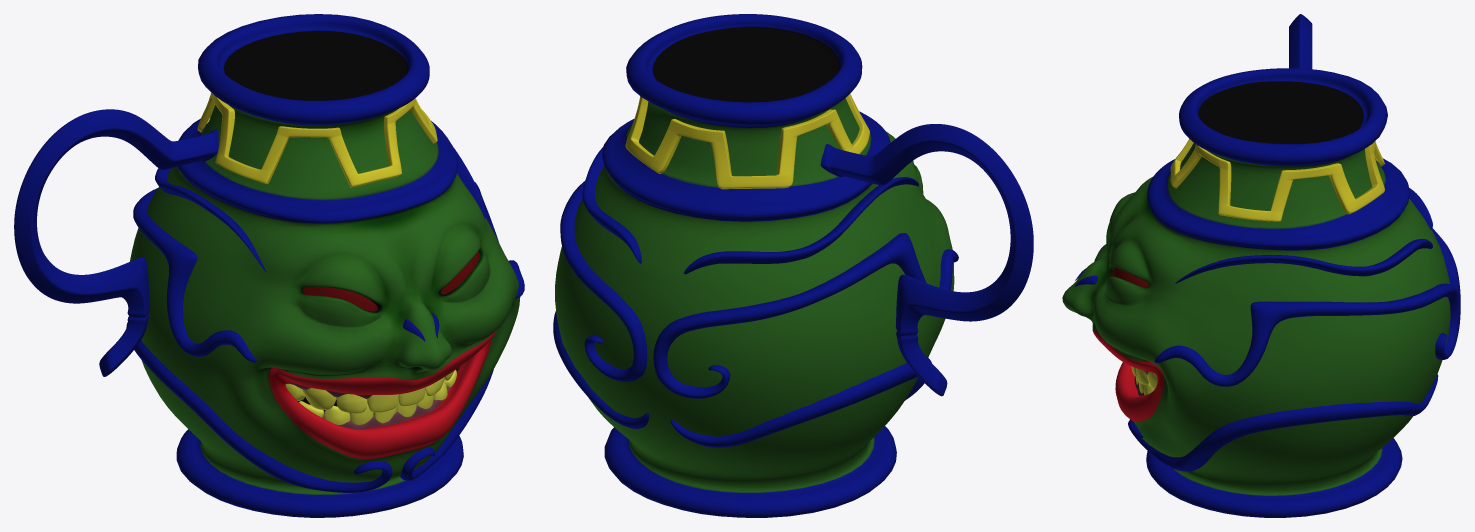
The model's file is Pot Of Greed.glb.
3 views of the same model, side by side, from view 1: azimuth 30°, elevation 25°; view 2: azimuth 150°, elevation 25°; view 3: azimuth 270°, elevation 25° (orthographic). The views are drawn at different scales.
Visible parts, largest first — view 1: Pot_of_Greed; view 2: Pot_of_Greed; view 3: Pot_of_Greed.
Part boxes in pixels (<box>): Pot_of_Greed: <box>14,14,524,517</box>; Pot_of_Greed: <box>553,14,1033,517</box>; Pot_of_Greed: <box>1062,14,1460,517</box>.
Bounding box in the file's own units: 2.12 × 1.77 × 1.78.
Materials: 1 (1 with a texture image).
